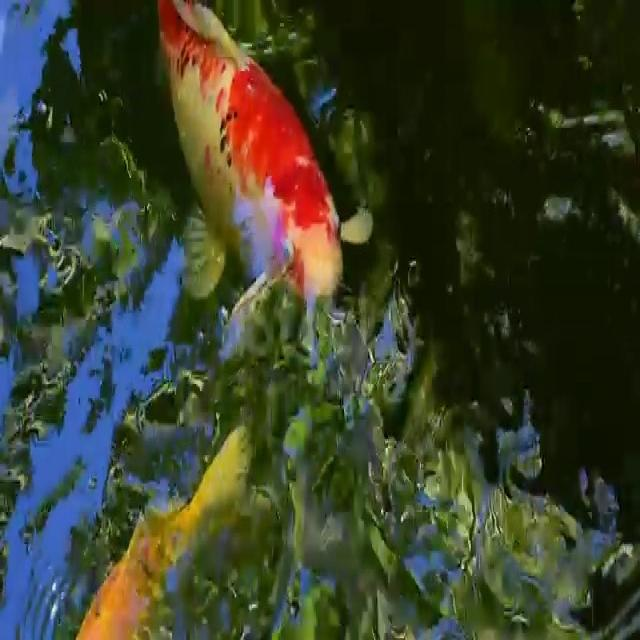fish: (150, 1, 378, 344), (77, 400, 260, 640)
